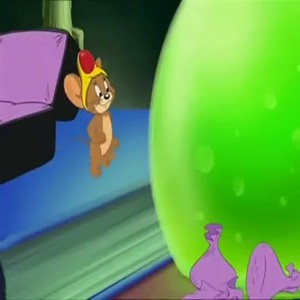Jerry: (62, 48, 125, 177)
